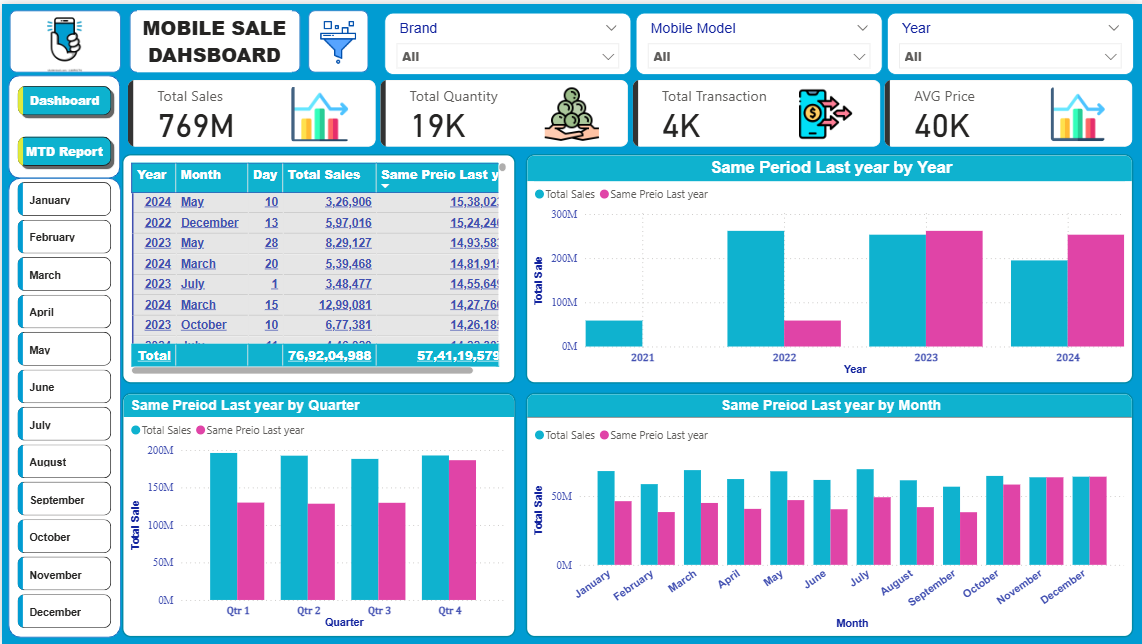

Layout of this report page (visuals, bound fields, positions):
{"tool":"powerbi","page":{"name":"Same Period Last Year","canvas":[1280,720],"ordinal":2},"visuals":[{"type":"shape","box":[8.2,6.9,124.9,70],"z":0},{"type":"image","box":[6.9,6.9,126.2,70],"z":1000},{"type":"shape","box":[7.2,79.6,125.5,115.8],"z":2000},{"type":"shape","box":[6.9,194.9,126.2,516],"z":3000},{"type":"advancedSlicerVisual","fields":{"Values":["Calendar.Dates.Variation.Date Hierarchy.Month"]},"box":[12.3,194.9,115.3,516],"z":4000},{"type":"cardVisual","fields":{"Data":["Sales Data.Total Sales","Sales Data.Total Quantity","Sales Data.Total Transaction","Sales Data.AVG Price"]},"box":[133.9,77.2,1146.1,91.7],"z":5000},{"type":"slicer","fields":{"Values":["Calendar.Dates.Variation.Date Hierarchy.Year","Calendar.Dates.Variation.Date Hierarchy.Quarter","Calendar.Dates.Variation.Date Hierarchy.Month","Calendar.Dates.Variation.Date Hierarchy.Day"]},"box":[992.1,9.6,277.2,70],"z":6000},{"type":"slicer","fields":{"Values":["Sales Data.Mobile Model"]},"box":[710.8,9.6,277.2,70],"z":7000},{"type":"slicer","fields":{"Values":["Sales Data.Brand"]},"box":[429.5,9.6,277.2,70],"z":8000},{"type":"shape","box":[343.8,7.2,67.6,70],"z":9000},{"type":"image","box":[343.8,18.1,67.6,49.5],"z":10000},{"type":"shape","box":[143.6,7.2,191.8,70],"z":11000},{"type":"textbox","box":[152,7.2,173.7,70],"z":12000},{"type":"tableEx","fields":{"Values":["Calendar.Dates.Variation.Date Hierarchy.Year","Calendar.Dates.Variation.Date Hierarchy.Month","Calendar.Dates.Variation.Date Hierarchy.Day","Sales Data.Total Sales","Sales Data.Same Preio Last year"]},"box":[134.5,168.8,441.9,258],"z":13000},{"type":"clusteredColumnChart","title":" Same Period Last year by Year","fields":{"Category":["Calendar.Dates.Variation.Date Hierarchy.Year","Calendar.Dates.Variation.Date Hierarchy.Month","Calendar.Dates.Variation.Date Hierarchy.Day"],"Y":["Sales Data.Total Sales","Sales Data.Same Preio Last year"]},"box":[587.3,168.8,682,258],"z":14000},{"type":"clusteredColumnChart","title":" Same Preiod Last year by Month","fields":{"Y":["Sales Data.Total Sales","Sales Data.Same Preio Last year"],"Category":["Calendar.Dates.Variation.Date Hierarchy.Month"]},"box":[587.3,436.4,682,274.4],"z":15000},{"type":"clusteredColumnChart","title":"Same Preiod Last year by Quarter","fields":{"Category":["Calendar.Dates.Variation.Date Hierarchy.Quarter"],"Y":["Sales Data.Total Sales","Sales Data.Same Preio Last year"]},"box":[134.5,436.4,441.9,274.4],"z":16000},{"type":"pageNavigator","box":[12.3,86.4,115.3,101.5],"z":17000}]}

Visuals, with their boxes in screenshot pixels (x1, y1, x2, y2), scaled from the page's 1280x720 canvas onto the 1142x644 screenshot:
shape: {"x1": 7, "y1": 6, "x2": 119, "y2": 69}
image: {"x1": 6, "y1": 6, "x2": 119, "y2": 69}
shape: {"x1": 6, "y1": 71, "x2": 118, "y2": 175}
shape: {"x1": 6, "y1": 174, "x2": 119, "y2": 636}
advancedSlicerVisual - Calendar.Dates.Variation.Date Hierarchy.Month: {"x1": 11, "y1": 174, "x2": 114, "y2": 636}
cardVisual - Sales Data.Total Sales x Sales Data.Total Quantity: {"x1": 119, "y1": 69, "x2": 1141, "y2": 151}
slicer - Calendar.Dates.Variation.Date Hierarchy.Year x Calendar.Dates.Variation.Date Hierarchy.Quarter: {"x1": 885, "y1": 9, "x2": 1132, "y2": 71}
slicer - Sales Data.Mobile Model: {"x1": 634, "y1": 9, "x2": 881, "y2": 71}
slicer - Sales Data.Brand: {"x1": 383, "y1": 9, "x2": 631, "y2": 71}
shape: {"x1": 307, "y1": 6, "x2": 367, "y2": 69}
image: {"x1": 307, "y1": 16, "x2": 367, "y2": 60}
shape: {"x1": 128, "y1": 6, "x2": 299, "y2": 69}
textbox: {"x1": 136, "y1": 6, "x2": 291, "y2": 69}
tableEx - Calendar.Dates.Variation.Date Hierarchy.Year x Calendar.Dates.Variation.Date Hierarchy.Month: {"x1": 120, "y1": 151, "x2": 514, "y2": 382}
" Same Period Last year by Year" clusteredColumnChart: {"x1": 524, "y1": 151, "x2": 1132, "y2": 382}
" Same Preiod Last year by Month" clusteredColumnChart: {"x1": 524, "y1": 390, "x2": 1132, "y2": 636}
"Same Preiod Last year by Quarter" clusteredColumnChart: {"x1": 120, "y1": 390, "x2": 514, "y2": 636}
pageNavigator: {"x1": 11, "y1": 77, "x2": 114, "y2": 168}
